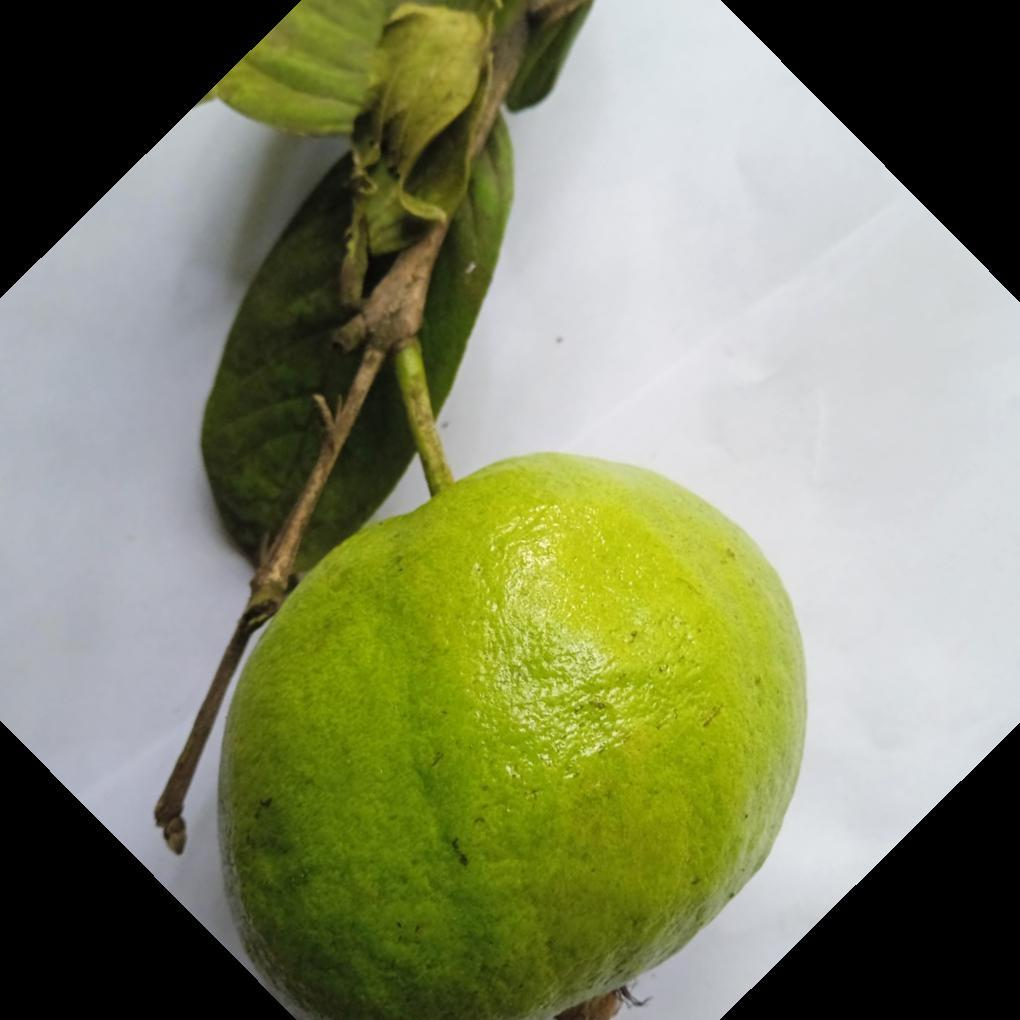FreshGuava: (216, 452, 809, 1020)
